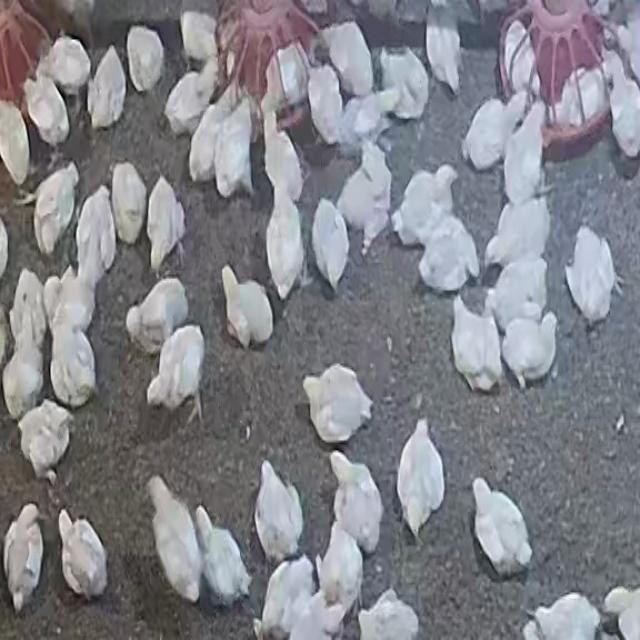chicken: (145, 473, 206, 598), (337, 143, 392, 251), (470, 479, 530, 578), (147, 324, 206, 422), (397, 420, 444, 542), (194, 503, 250, 602), (303, 365, 372, 444), (330, 452, 383, 554), (564, 227, 619, 325), (454, 293, 504, 396), (257, 555, 319, 637), (417, 217, 479, 296), (126, 276, 188, 355), (487, 198, 552, 273), (394, 165, 450, 249), (58, 510, 109, 601), (16, 402, 74, 482), (258, 457, 302, 562), (318, 525, 363, 625), (490, 256, 550, 331), (501, 312, 558, 390), (220, 266, 274, 348), (260, 109, 305, 205), (50, 318, 97, 409), (267, 181, 303, 296), (502, 103, 546, 197), (4, 506, 43, 609), (17, 70, 68, 147), (74, 188, 114, 285), (32, 164, 78, 248), (146, 174, 186, 270), (604, 50, 640, 156), (324, 20, 374, 96), (214, 106, 255, 198), (526, 592, 604, 640), (378, 47, 428, 120), (462, 96, 511, 169), (546, 68, 604, 129), (37, 33, 93, 95), (313, 196, 350, 287), (424, 5, 462, 93), (306, 62, 346, 145), (88, 45, 127, 130), (163, 69, 211, 135), (52, 265, 96, 337), (3, 343, 43, 421), (357, 591, 420, 640), (188, 97, 225, 180), (123, 20, 165, 93), (114, 162, 149, 243), (272, 43, 312, 113), (12, 268, 46, 348), (0, 101, 31, 185), (507, 24, 538, 95), (179, 10, 219, 62), (348, 93, 388, 145)
